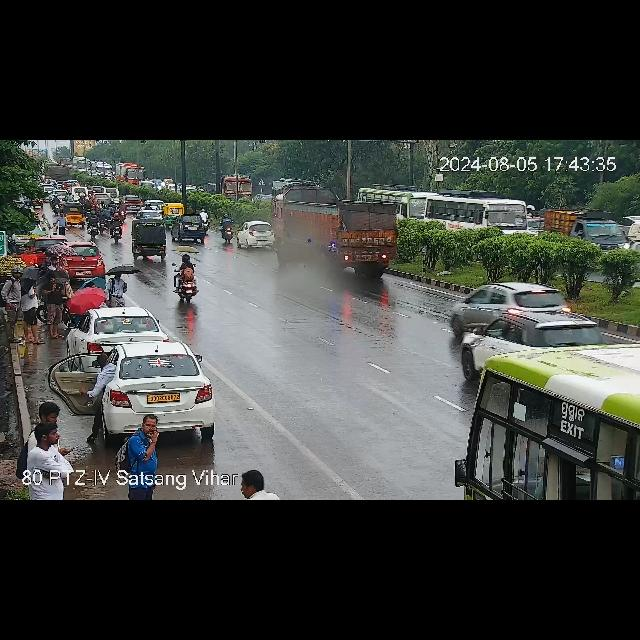bus: (458, 348, 640, 500), (266, 190, 408, 268), (430, 197, 526, 237), (362, 186, 428, 220), (117, 162, 145, 182), (90, 160, 110, 178), (72, 155, 90, 173)
car: (77, 340, 219, 440), (455, 313, 599, 372), (451, 282, 572, 330), (74, 308, 166, 349), (57, 243, 105, 275), (132, 223, 174, 259), (234, 221, 272, 249), (173, 213, 211, 240), (63, 200, 89, 224), (134, 212, 164, 226), (91, 186, 115, 200), (161, 204, 187, 216), (120, 195, 142, 207)
motorcycle: (176, 252, 197, 298), (215, 216, 235, 244), (110, 212, 124, 242), (88, 210, 98, 238), (99, 207, 108, 233), (118, 199, 126, 219), (53, 194, 59, 213), (142, 202, 152, 212), (92, 201, 100, 213), (104, 206, 110, 220), (136, 211, 146, 219), (98, 201, 104, 213), (110, 200, 116, 210), (86, 200, 90, 214), (79, 194, 83, 202)
person: (122, 414, 164, 472), (26, 431, 76, 475), (21, 272, 47, 344), (44, 275, 68, 341), (1, 268, 22, 338), (236, 478, 284, 500), (104, 272, 128, 304), (38, 212, 70, 234), (22, 245, 40, 265)
truck: (546, 208, 632, 248), (203, 175, 264, 201)
